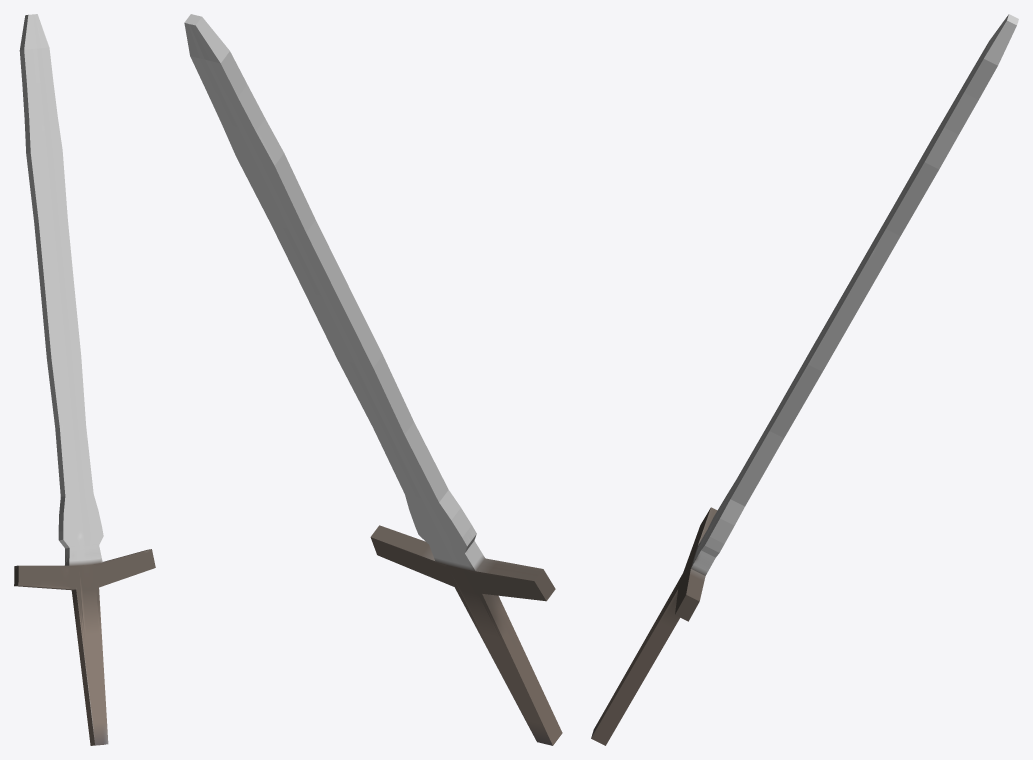
Rendered from sword_000094.obj.
3 views of the same model, side by side, from view 1: azimuth 30°, elevation 25°; view 2: azimuth 150°, elevation 25°; view 3: azimuth 270°, elevation 25° (orthographic). The views are drawn at different scales.
Size of the model in its own units: 0.1544 by 0.6282 by 0.3115.
